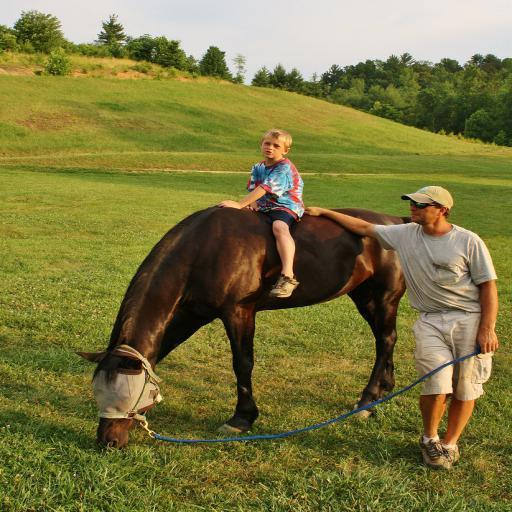horse: (75, 202, 413, 450)
